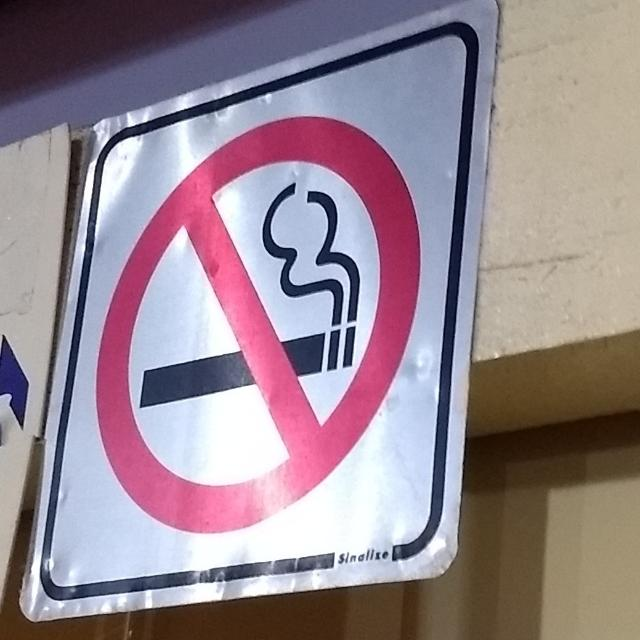cam hut thuoc: (97, 116, 419, 533)
